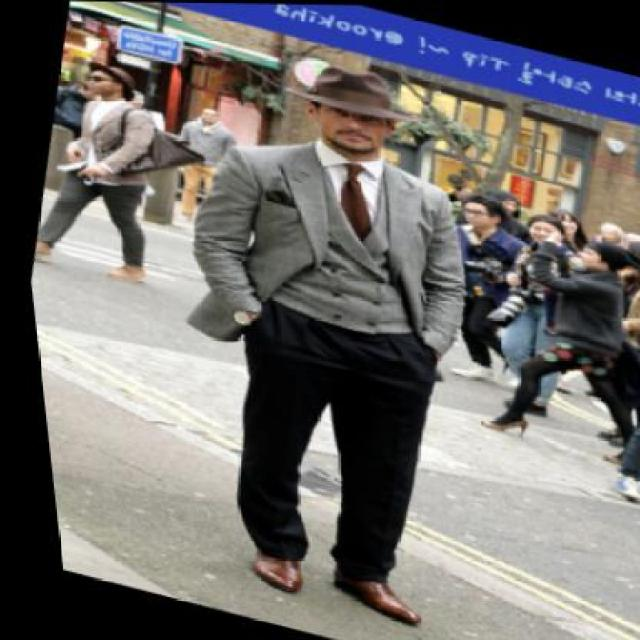hat: (274, 49, 428, 132)
